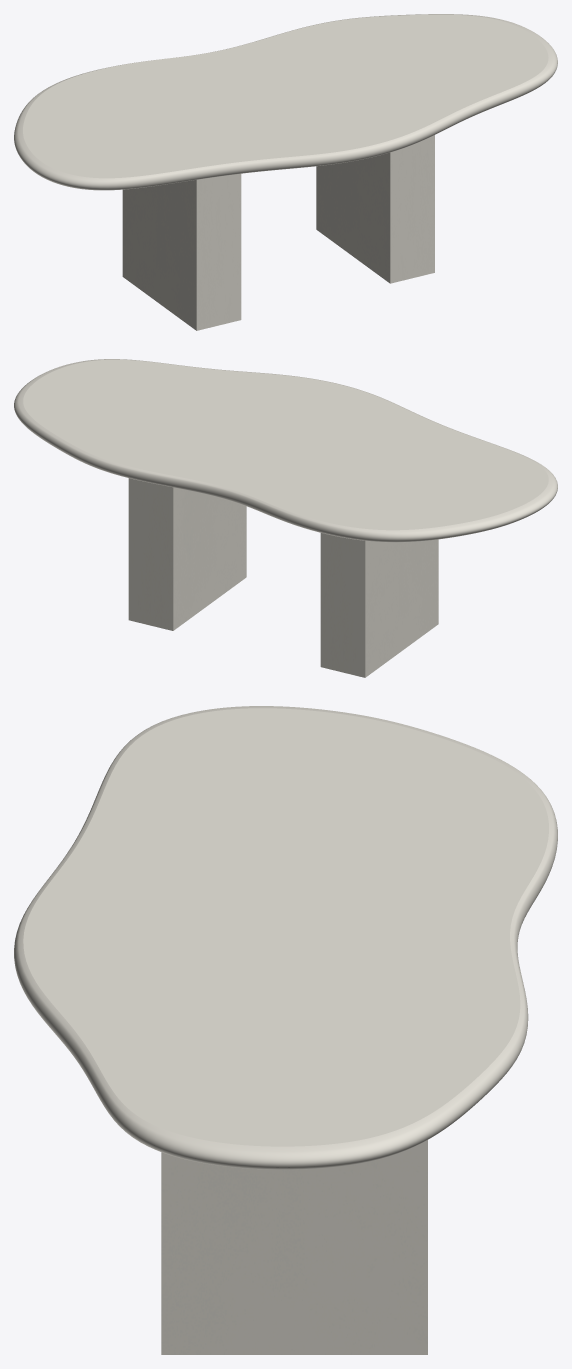
File: pale_toplast_round_ridge.glb
The picture shows the model from 3 angles, top to bottom: view 1: azimuth 30°, elevation 25°; view 2: azimuth 150°, elevation 25°; view 3: azimuth 270°, elevation 25°; orthographic projection. The views are drawn at different scales.
Visible parts, largest first — view 1: round_toplast, ridge; view 2: round_toplast, ridge; view 3: round_toplast, ridge.
Part boxes in pixels (left/top/right/bottom): round_toplast: left=14, top=14, right=557, bottom=190; ridge: left=122, top=135, right=434, bottom=330; round_toplast: left=14, top=359, right=557, bottom=542; ridge: left=128, top=478, right=438, bottom=677; round_toplast: left=14, top=706, right=557, bottom=1169; ridge: left=161, top=1140, right=427, bottom=1354.
Bounding box in the file's own units: 7.5 × 2.5 × 3.8.
1 material, 1 textured.
